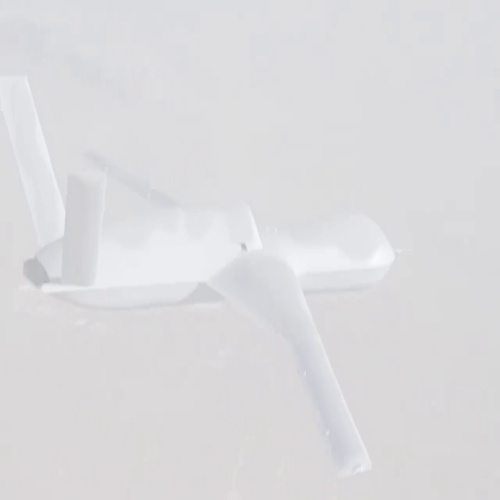uav: (1, 78, 394, 479)
